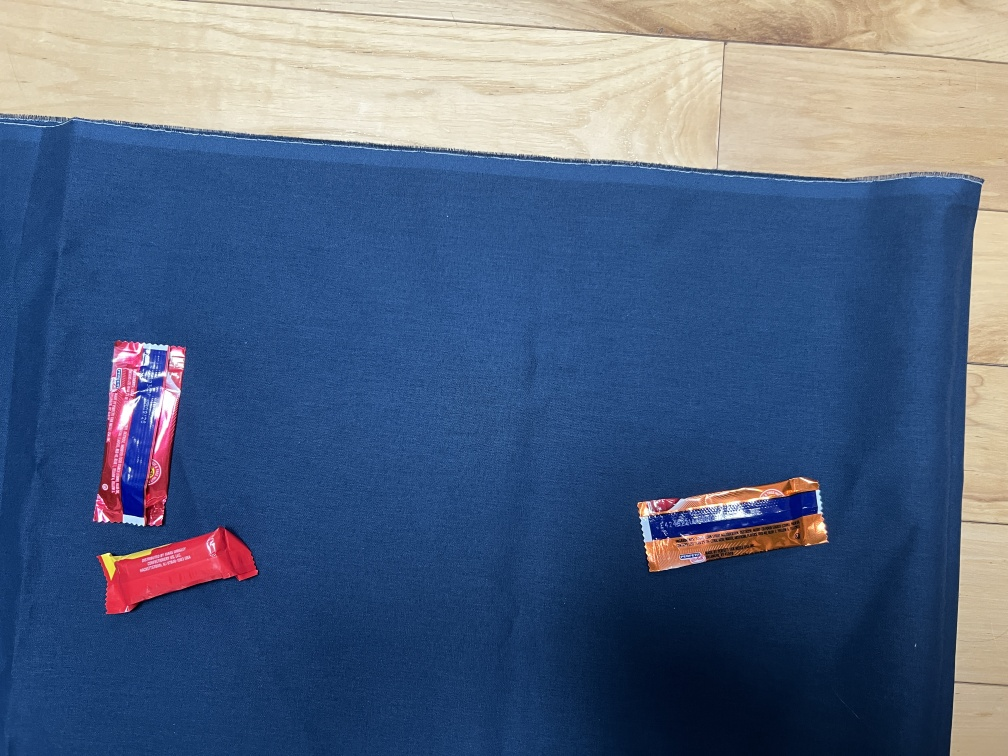airheads: (624, 486, 853, 577), (91, 329, 192, 525)
starbust: (85, 525, 276, 614)
